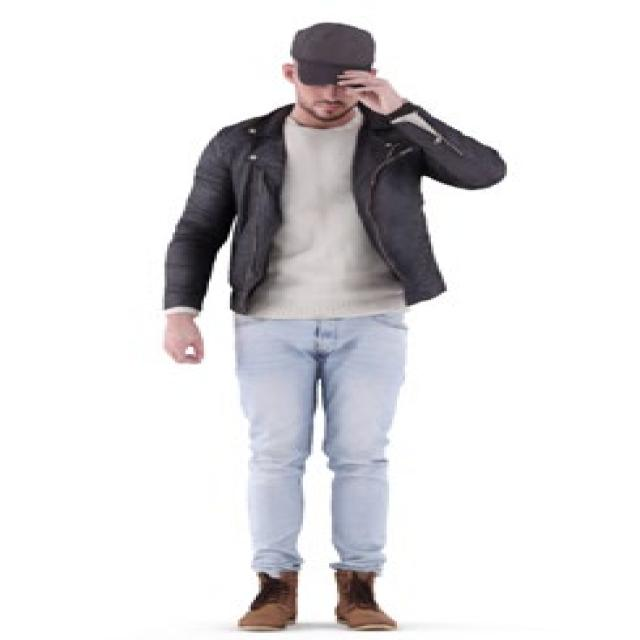standing: (152, 22, 512, 636)
